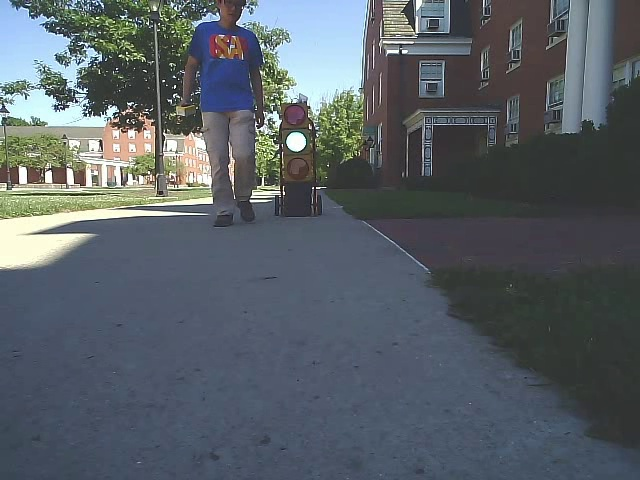green: (280, 102, 313, 181)
